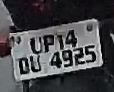1: (56, 33, 66, 50)
2: (72, 45, 86, 68)
4: (63, 29, 79, 47), (50, 52, 62, 71)
5: (84, 42, 97, 64)
9: (59, 48, 75, 69)
D: (16, 55, 30, 78)
P: (41, 34, 55, 54)
U: (27, 36, 44, 55), (28, 54, 43, 74)
